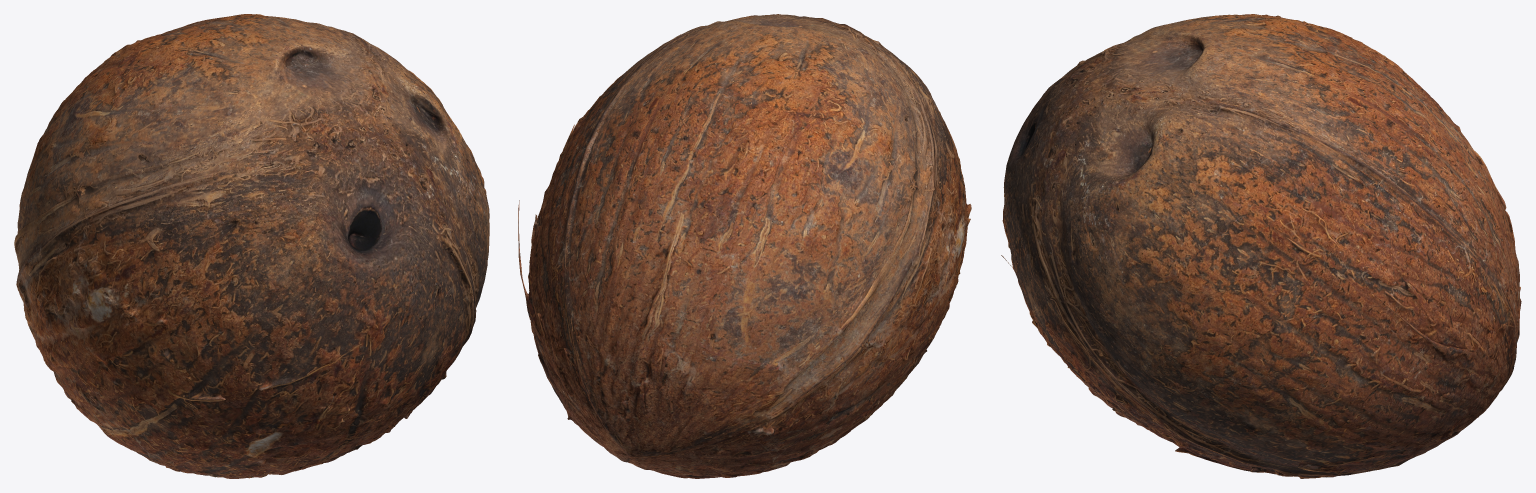
Rendered from coconut_3d_3.glb.
3 renders of one model, left to right at view 1: azimuth 30°, elevation 25°; view 2: azimuth 150°, elevation 25°; view 3: azimuth 270°, elevation 25°, orthographic. The views are drawn at different scales.
Visible parts, largest first — view 1: Model; view 2: Model; view 3: Model.
Part boxes in pixels (x1,y1,x2,y2): Model: (14, 14, 489, 478); Model: (518, 14, 971, 478); Model: (1001, 14, 1521, 478).
Bounding box in the file's own units: 0.9911 × 1.03 × 1.16.
3 materials, 3 textured.
